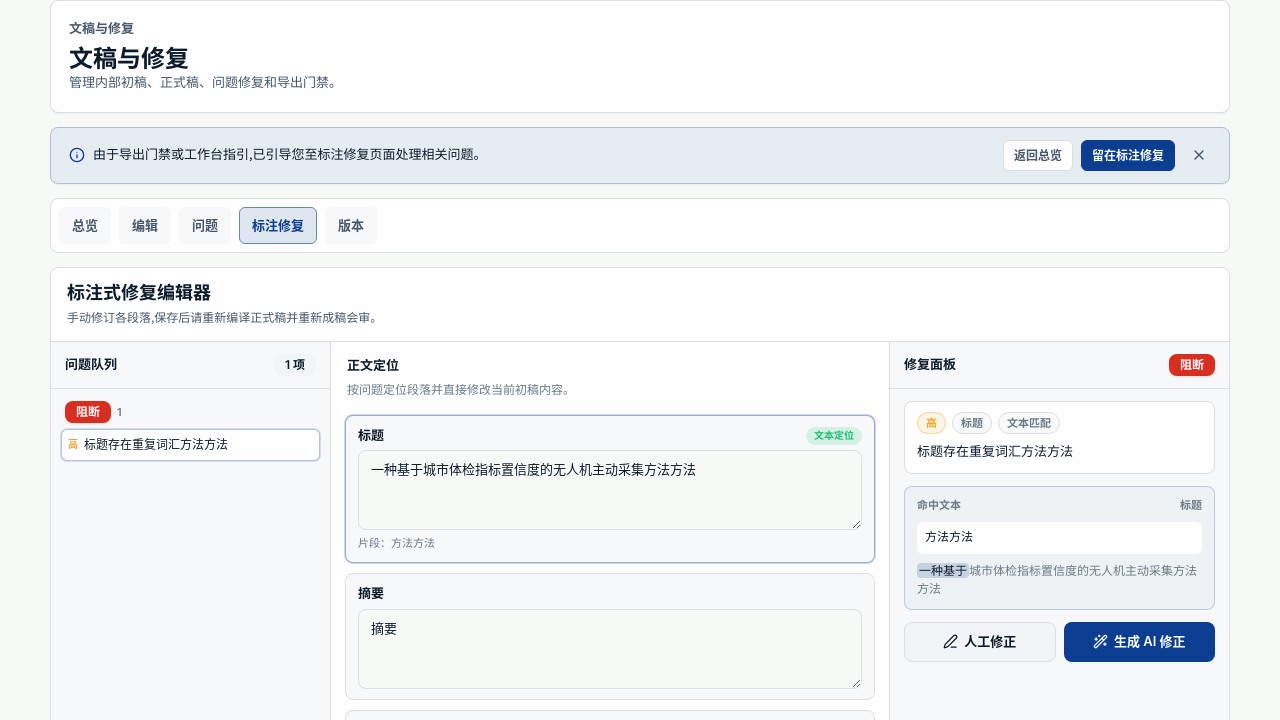
Test: DocumentRepairWorkspace › clears guidance band when user manually changes tabs
The width and height of the screenshot is (1280, 720).
Expected: the text "由于导出门禁或工作台指引，已引导您至标注修复页面处理相关问题。" is shown, [93, 146, 487, 165]
Click the tab "总览" at (85, 225), box [59, 207, 111, 244]
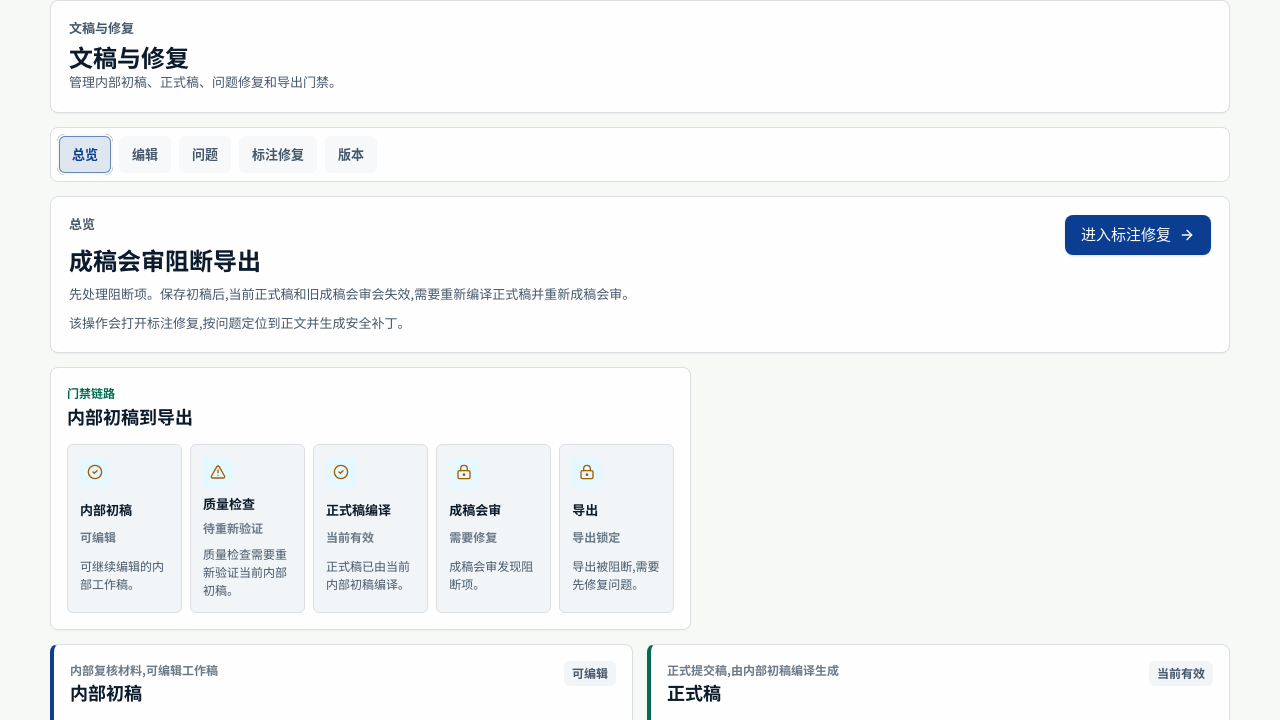
Expected: the text "由于导出门禁或工作台指引，已引导您至标注修复页面处理相关问题。" is gone
